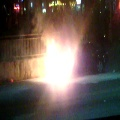fire: (37, 38, 74, 90)
